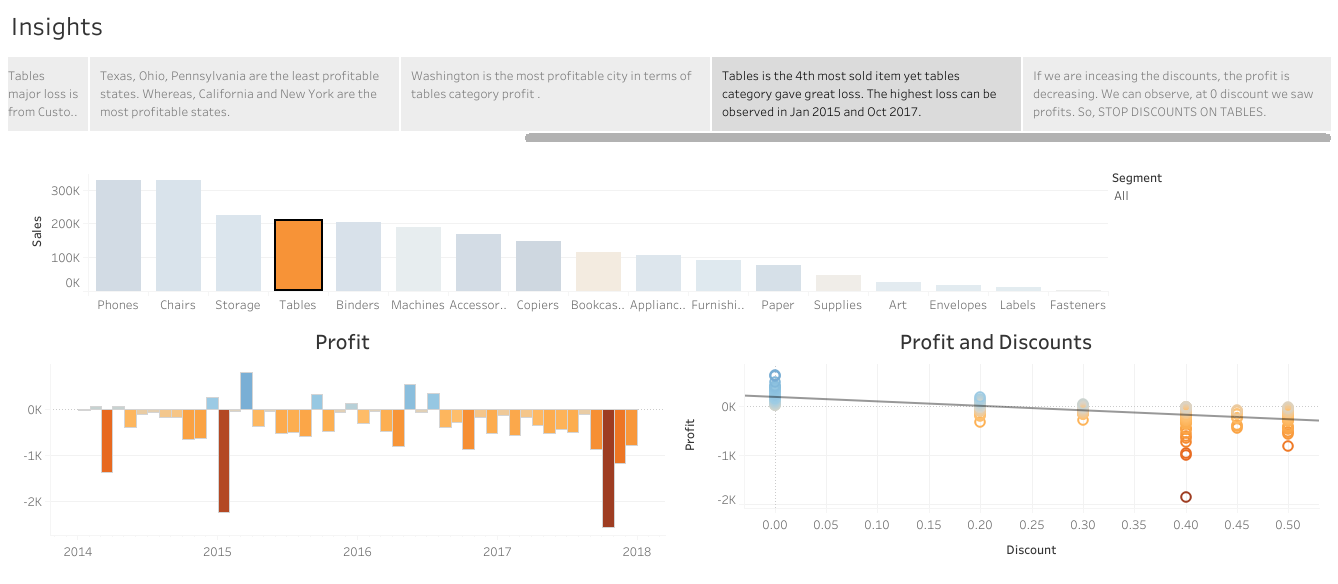

Layout of this report page (visuals, bound fields, positions):
{"tool":"tableau","page":{"name":"Tables1","canvas":[1000,1000],"units":"permille","ordinal":2},"visuals":[{"type":"worksheet","title":"SalesProfitMix","mark":"Automatic","rows":["Sales"],"cols":["Sub-Category"],"box":[7,12.7,986.1,381.3]},{"type":"filter","title":"ProfitDiscounts","param":"[federated.1duf3tj0375j501eab0np1ncm6t6].[none:Segment:nk]","box":[831.5,38,139,82.3]},{"type":"worksheet","title":"TotalProfitBar","mark":"Bar","rows":["Profit"],"cols":["Order Date"],"box":[7,394,492.6,593.4]},{"type":"worksheet","title":"ProfitDiscounts","mark":"Automatic","rows":["Profit"],"cols":["Discount"],"box":[499.6,394,493.5,593.4]}]}

Visuals, with their boxes on the dashboard's canvas, which has no fixed pixel size, in thousandths of its width and height (x1, y1, x2, y2). These are canvas units, not pixel positions in the 1338x584 screenshot, which may show the page scaled, cropped or inside an application window:
"SalesProfitMix" worksheet: (7, 13, 993, 394)
"ProfitDiscounts" filter: (832, 38, 970, 120)
"TotalProfitBar" worksheet (Bar marks): (7, 394, 500, 987)
"ProfitDiscounts" worksheet: (500, 394, 993, 987)
